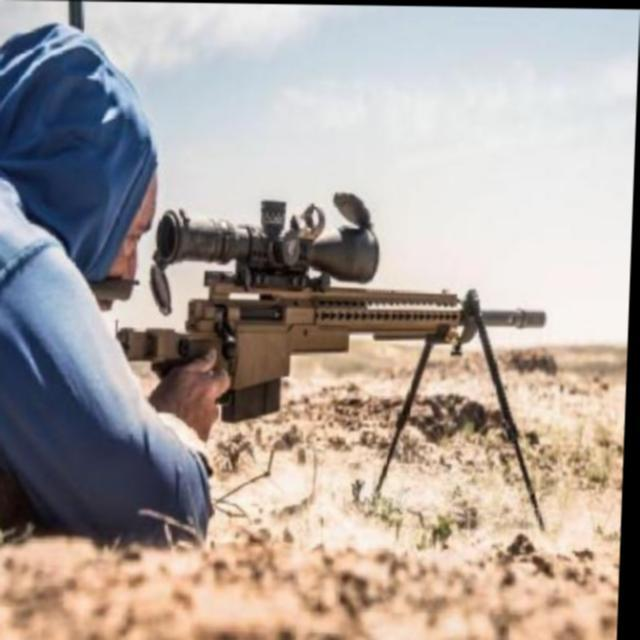weapon: (108, 187, 560, 530)
